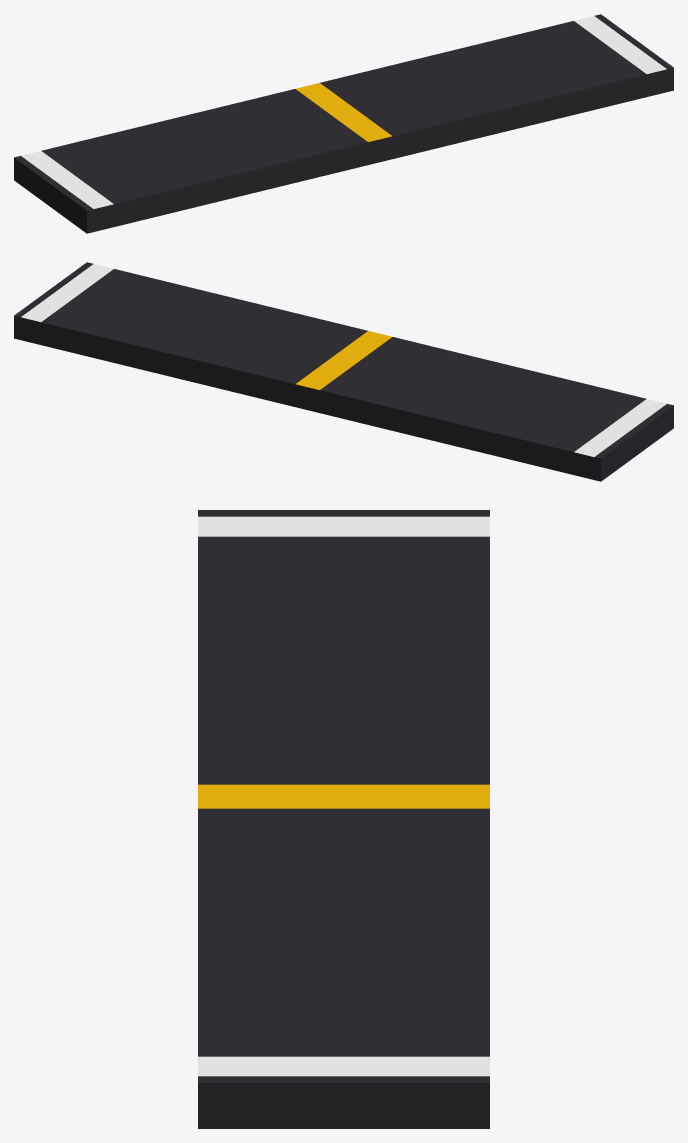
Rendered from 1Lane_wos.fbx.
The picture shows the model from 3 angles, top to bottom: view 1: azimuth 30°, elevation 25°; view 2: azimuth 150°, elevation 25°; view 3: azimuth 270°, elevation 25°; orthographic projection. The views are drawn at different scales.
Visible parts, largest first — view 1: Cube; view 2: Cube; view 3: Cube.
Boxes of the visible parts, bbox=[...] form: Cube: bbox=[14, 14, 673, 233]; Cube: bbox=[14, 262, 673, 481]; Cube: bbox=[198, 510, 489, 1128].
Size of the model in its own units: 185 by 6.91 by 39.87.
